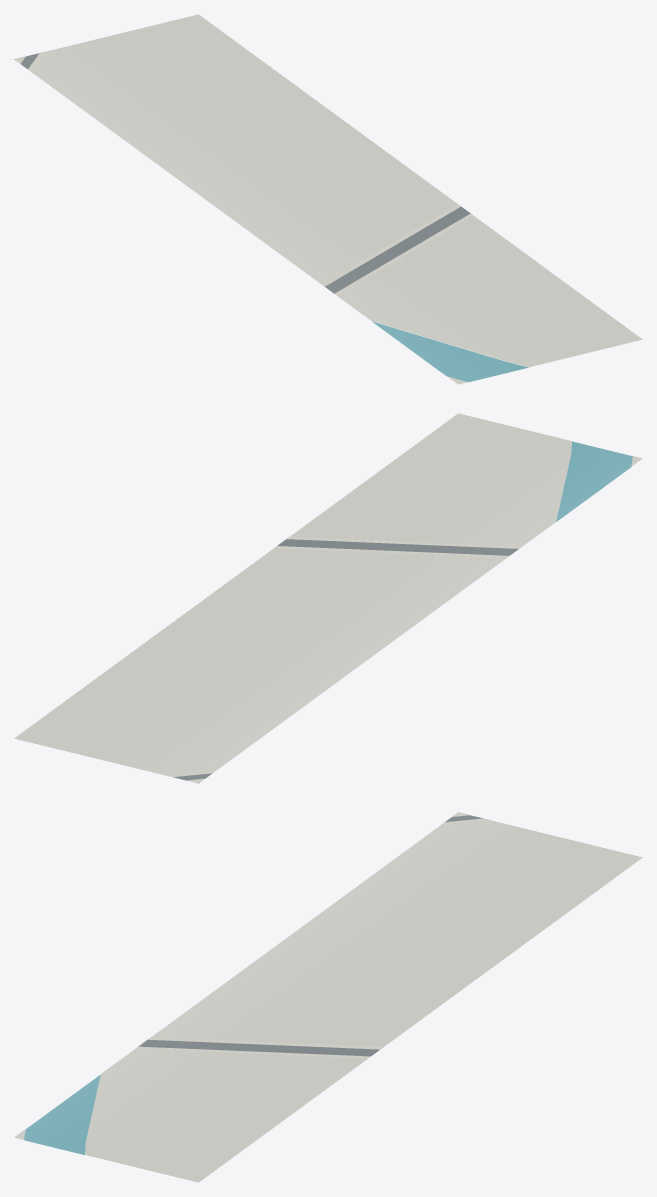
3 views of the same model, one above another, from view 1: azimuth 30°, elevation 25°; view 2: azimuth 150°, elevation 25°; view 3: azimuth 330°, elevation 25° (orthographic).
Parts seen in each view (by area): view 1: city; view 2: city; view 3: city.
Part boxes in pixels (x1,y1,x2,y2): city: [14, 14, 642, 384]; city: [14, 413, 642, 783]; city: [14, 812, 642, 1182].
Size of the model in its own units: 120 by 0.4 by 500.
